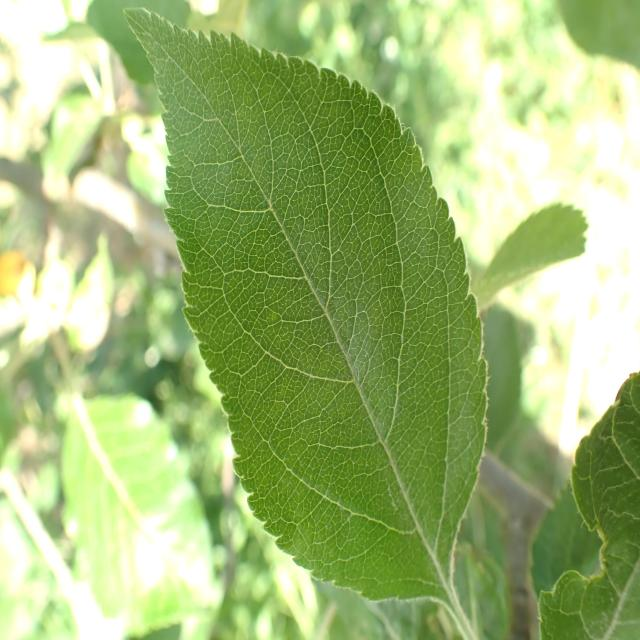healthy: (122, 5, 488, 603), (534, 371, 640, 640)
